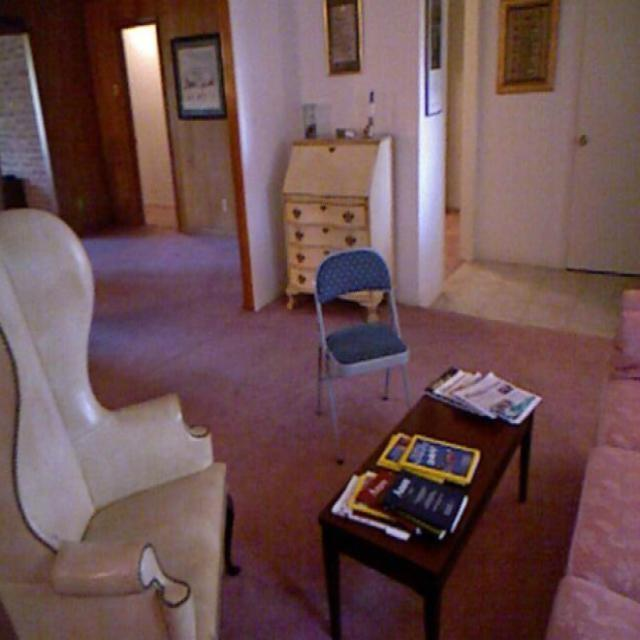door: (548, 0, 640, 291), (433, 0, 512, 293), (115, 2, 186, 242)
obstacle: (3, 200, 258, 640), (314, 357, 554, 632), (270, 84, 420, 330)
